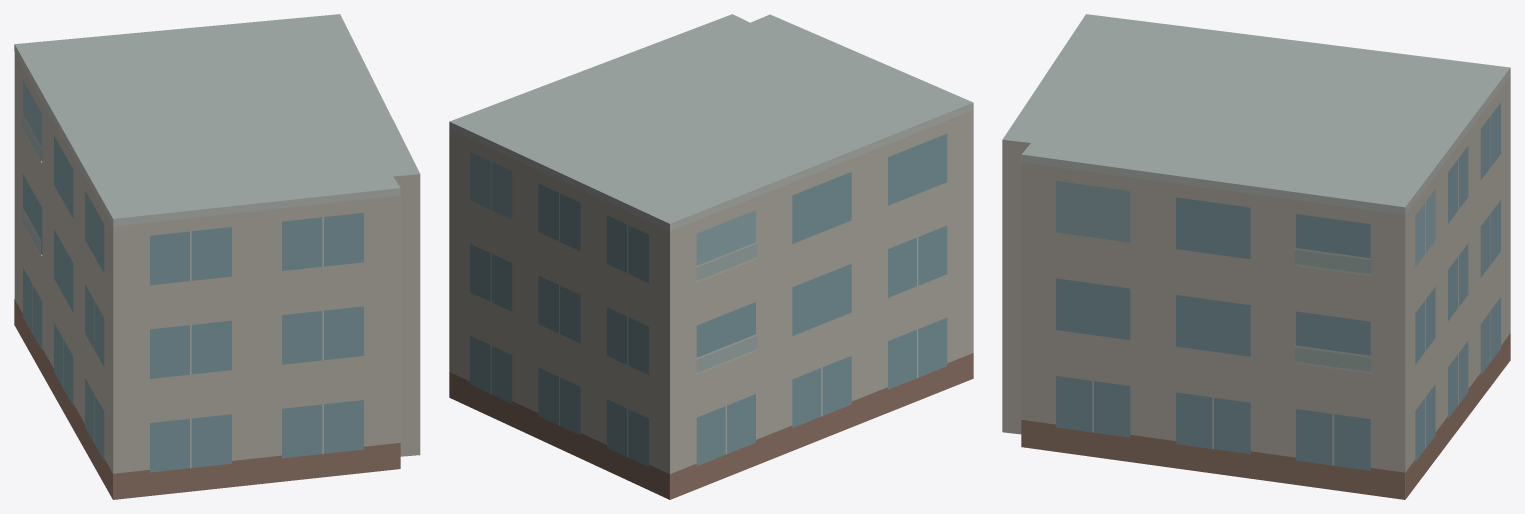
Rendered from survey-upis-32826045.glb.
3 views of the same model, side by side, from view 1: azimuth 30°, elevation 25°; view 2: azimuth 150°, elevation 25°; view 3: azimuth 270°, elevation 25° (orthographic). The views are drawn at different scales.
Visible parts, largest first — view 1: survey-upis-32826045.tmp; view 2: survey-upis-32826045.tmp; view 3: survey-upis-32826045.tmp.
Part boxes in pixels (x1,y1,x2,y2): survey-upis-32826045.tmp: (14,14,420,499); survey-upis-32826045.tmp: (449,14,973,499); survey-upis-32826045.tmp: (1002,14,1510,499).
Size of the model in its own units: 12.98 by 9.15 by 14.42.
